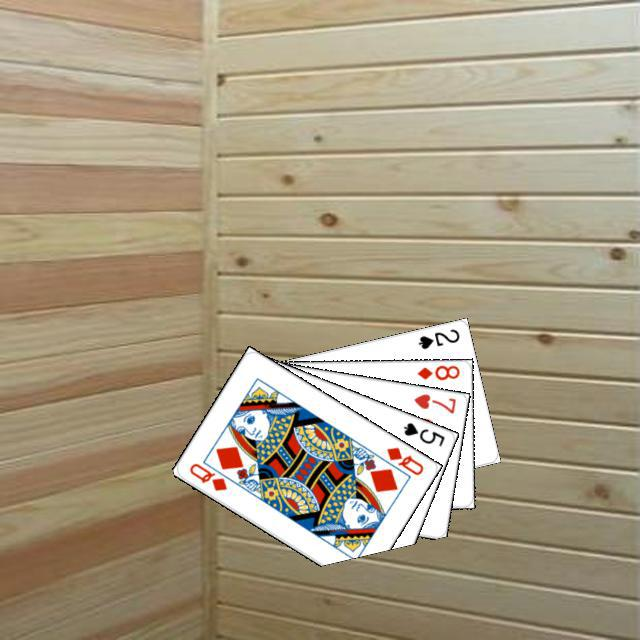2s: (413, 324, 461, 351)
5s: (398, 417, 446, 448)
7h: (409, 389, 458, 415)
8d: (412, 361, 461, 382)
Qd: (184, 458, 229, 493), (382, 442, 425, 477)
